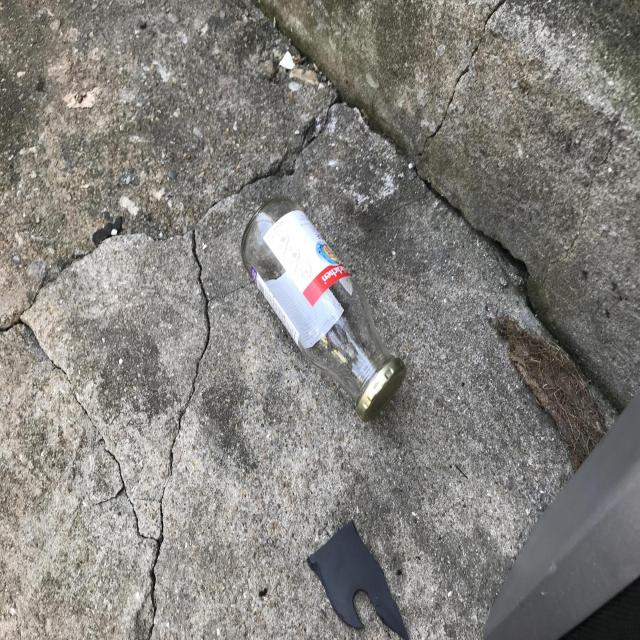glass: (241, 197, 406, 421)
